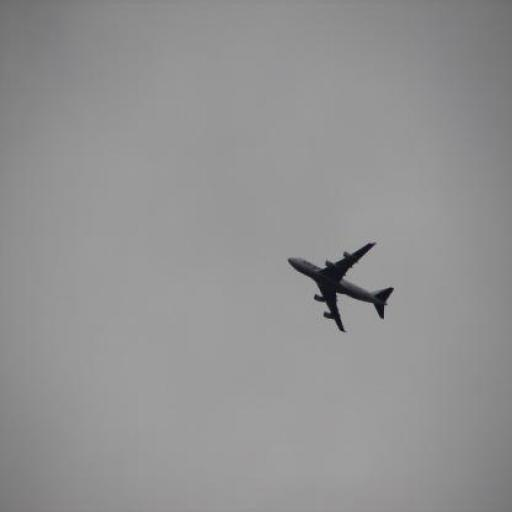aircraft: (278, 238, 394, 337)
